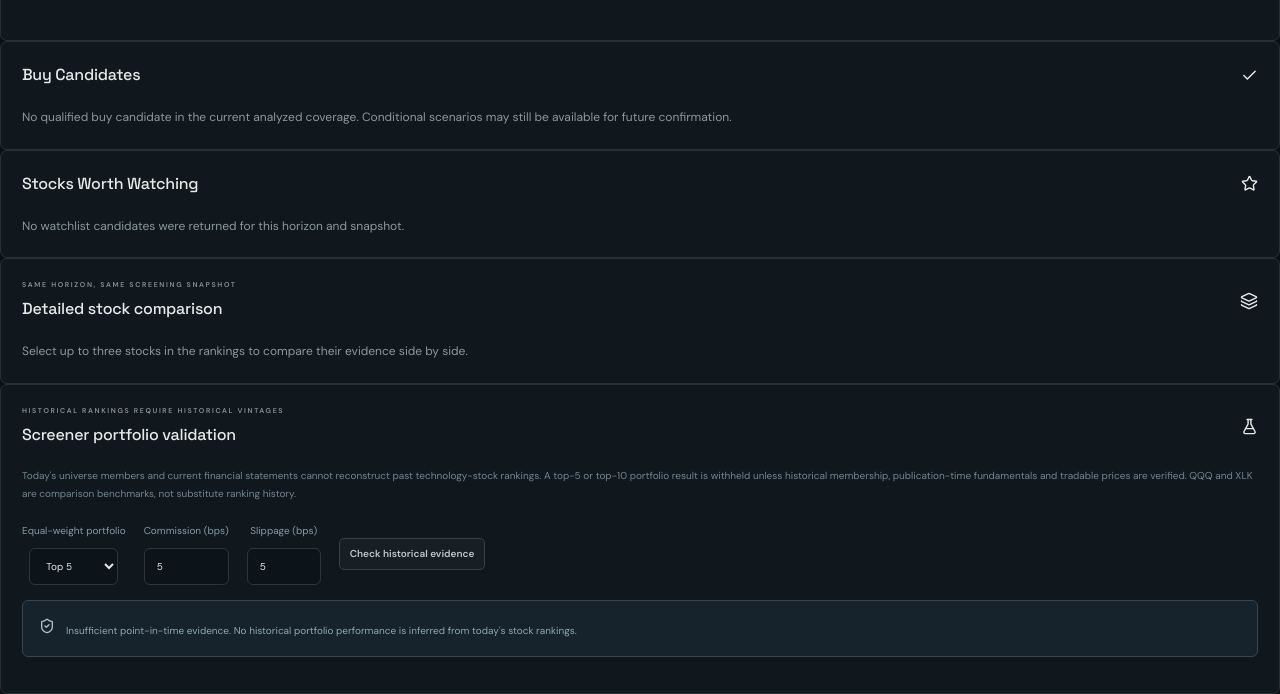
Test case: technology screener › preserves explicit historical abstention without inventing a portfolio curve
The image size is (1280, 694).
(page scrolled)
Click the button "Check historical evidence".
click(412, 554)  # box [339,538,485,570]
(page scrolled)
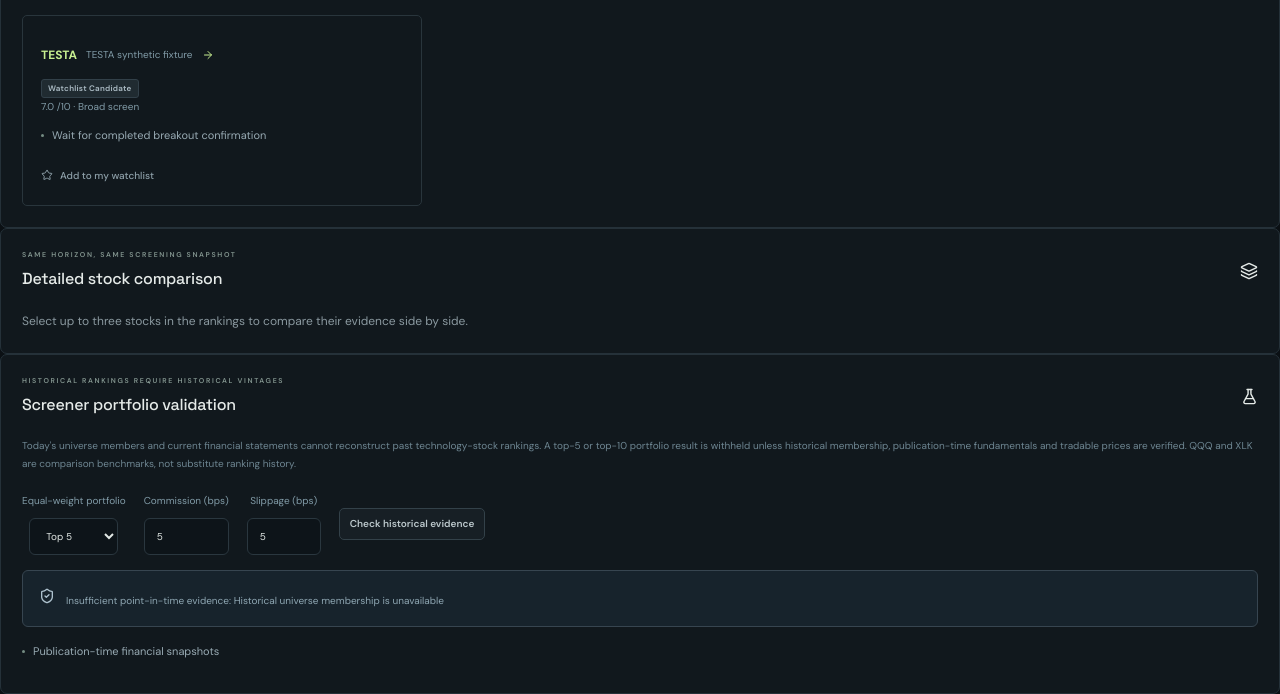
Now the text "Historical universe membership is unavailable" is shown, box [229,594,444,607]
